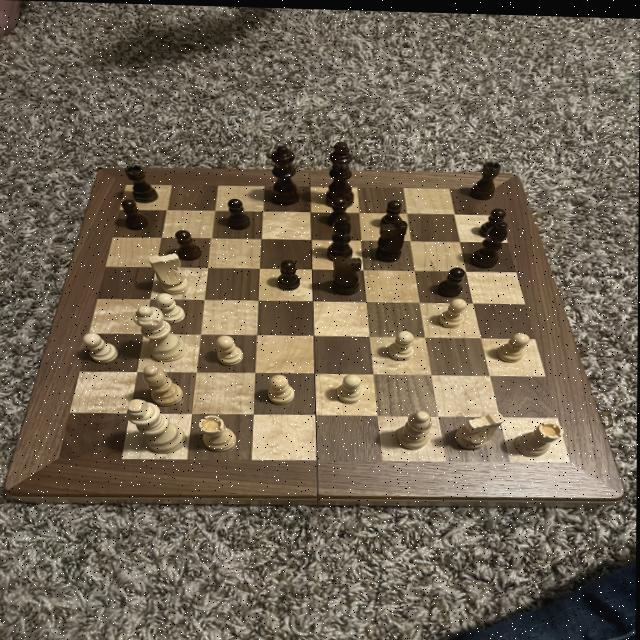bishop: (468, 217, 512, 267), (325, 212, 356, 262)
black-bishop: (325, 139, 357, 209)
black-king: (372, 217, 410, 262), (328, 253, 365, 295)
black-knight: (173, 227, 204, 262), (435, 264, 467, 296), (274, 256, 304, 290), (477, 204, 507, 237), (120, 198, 149, 232), (225, 196, 253, 229), (325, 193, 352, 227), (379, 197, 404, 226)
black-pawn: (268, 142, 302, 206)
black-queen: (122, 163, 162, 204), (468, 156, 503, 199)
black-rook: (141, 363, 186, 407), (395, 406, 435, 449)
white-bishop: (123, 396, 189, 456)
white-king: (454, 406, 507, 449), (148, 251, 193, 295)
white-knight: (79, 331, 120, 365), (494, 327, 533, 361), (264, 371, 299, 406), (152, 290, 188, 323), (212, 333, 246, 366), (384, 327, 417, 360), (438, 293, 469, 328), (336, 371, 366, 402)
white-pawn: (130, 303, 189, 362)
white-queen: (512, 417, 565, 457), (196, 413, 241, 452)
